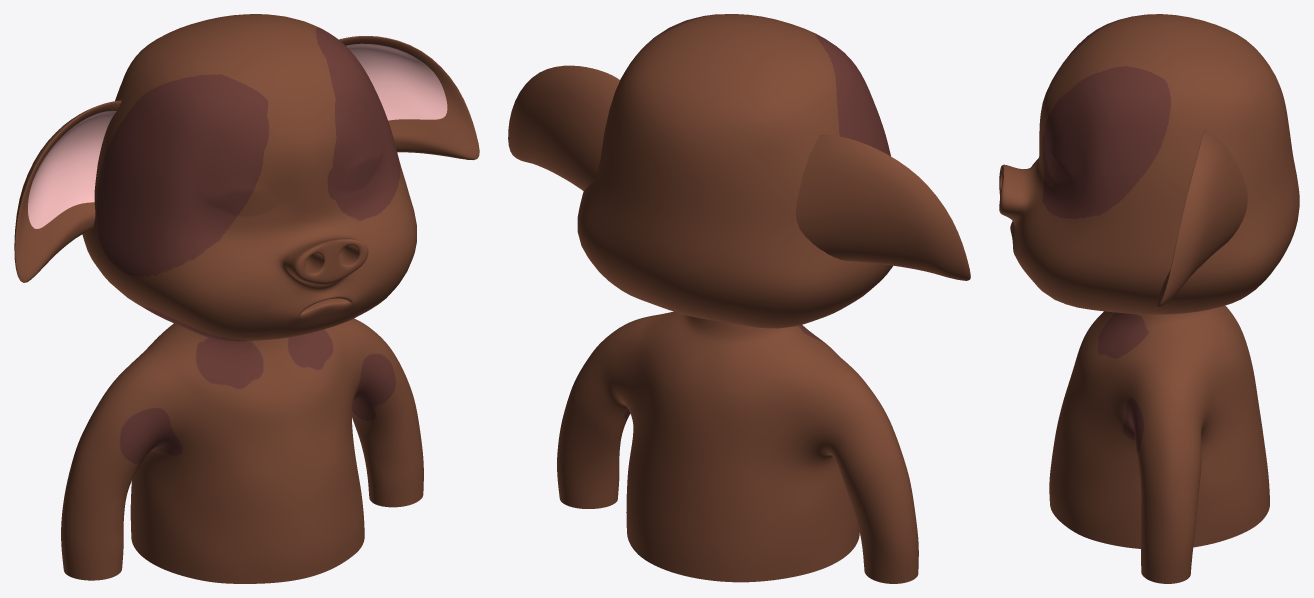
Rendered from BrownPig.gltf.
3 renders of one model, left to right at view 1: azimuth 30°, elevation 25°; view 2: azimuth 150°, elevation 25°; view 3: azimuth 270°, elevation 25°, orthographic. The views are drawn at different scales.
Visible parts, largest first — view 1: 身体-PBR9, 身体-PBR8, 身体-PBR11, 身体-PBR10; view 2: 身体-PBR8, 身体-PBR9, 身体-PBR10; view 3: 身体-PBR9, 身体-PBR8, 身体-PBR10.
Boxes of the visible parts, <box> form: 身体-PBR9: <box>82,14,416,341</box>; 身体-PBR8: <box>61,318,423,583</box>; 身体-PBR11: <box>28,43,447,228</box>; 身体-PBR10: <box>14,36,479,282</box>; 身体-PBR8: <box>557,311,918,583</box>; 身体-PBR9: <box>577,14,892,328</box>; 身体-PBR10: <box>508,65,970,280</box>; 身体-PBR9: <box>999,14,1299,314</box>; 身体-PBR8: <box>1049,305,1269,583</box>; 身体-PBR10: <box>1157,130,1247,307</box>.
Size of the model in its own units: 13.35 by 13.9 by 8.03.
Materials: 4 (3 with a texture image).
